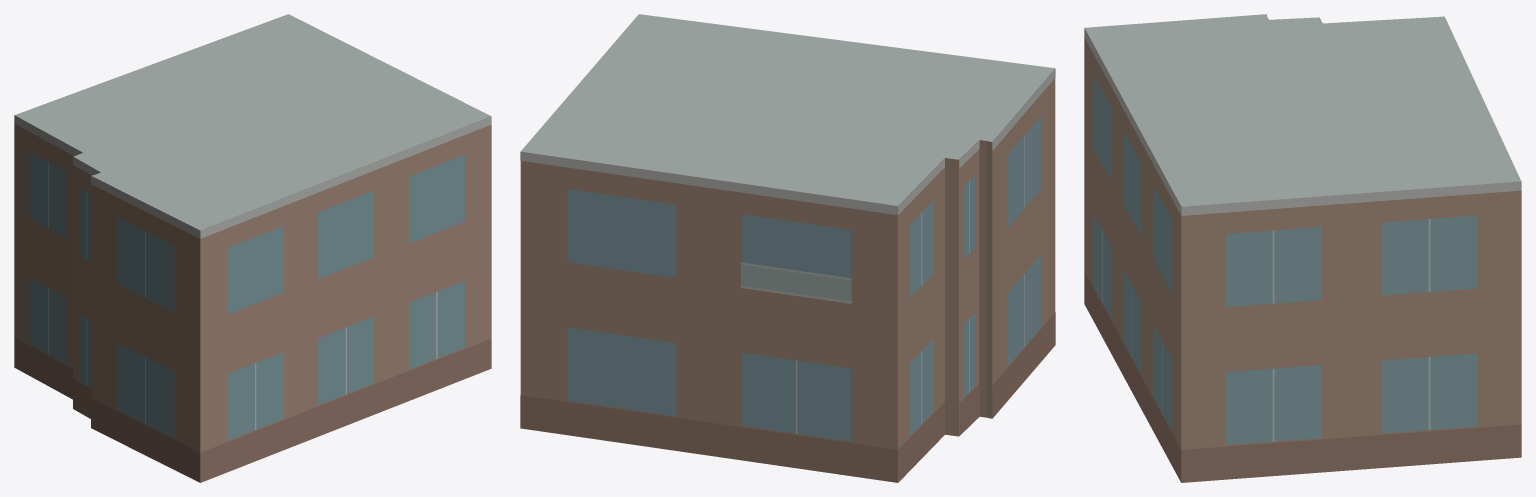
File: survey-upis-32933446.glb
3 views of the same model, side by side, from view 1: azimuth 30°, elevation 25°; view 2: azimuth 150°, elevation 25°; view 3: azimuth 270°, elevation 25° (orthographic). The views are drawn at different scales.
Visible parts, largest first — view 1: survey-upis-32933446.tmp; view 2: survey-upis-32933446.tmp; view 3: survey-upis-32933446.tmp.
Boxes of the visible parts, x1,y1,x2,y2 form: survey-upis-32933446.tmp: (14, 14, 491, 482); survey-upis-32933446.tmp: (520, 14, 1055, 482); survey-upis-32933446.tmp: (1084, 14, 1521, 482).
Bounding box in the file's own units: 11.1 × 7.4 × 10.63.
